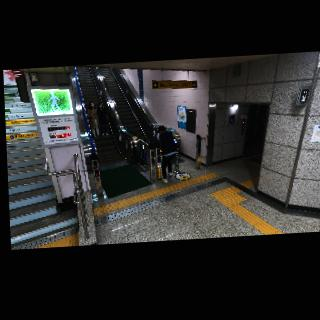normal: (154, 124, 180, 185), (96, 101, 112, 141), (85, 100, 100, 139)
